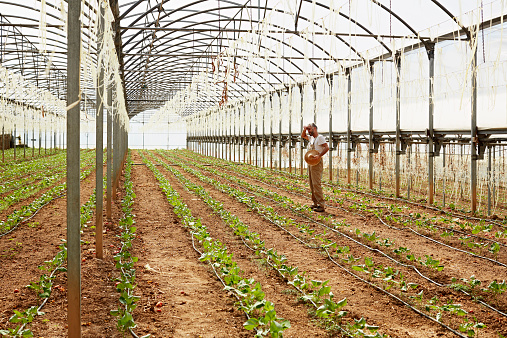em pe: (291, 111, 326, 215)
